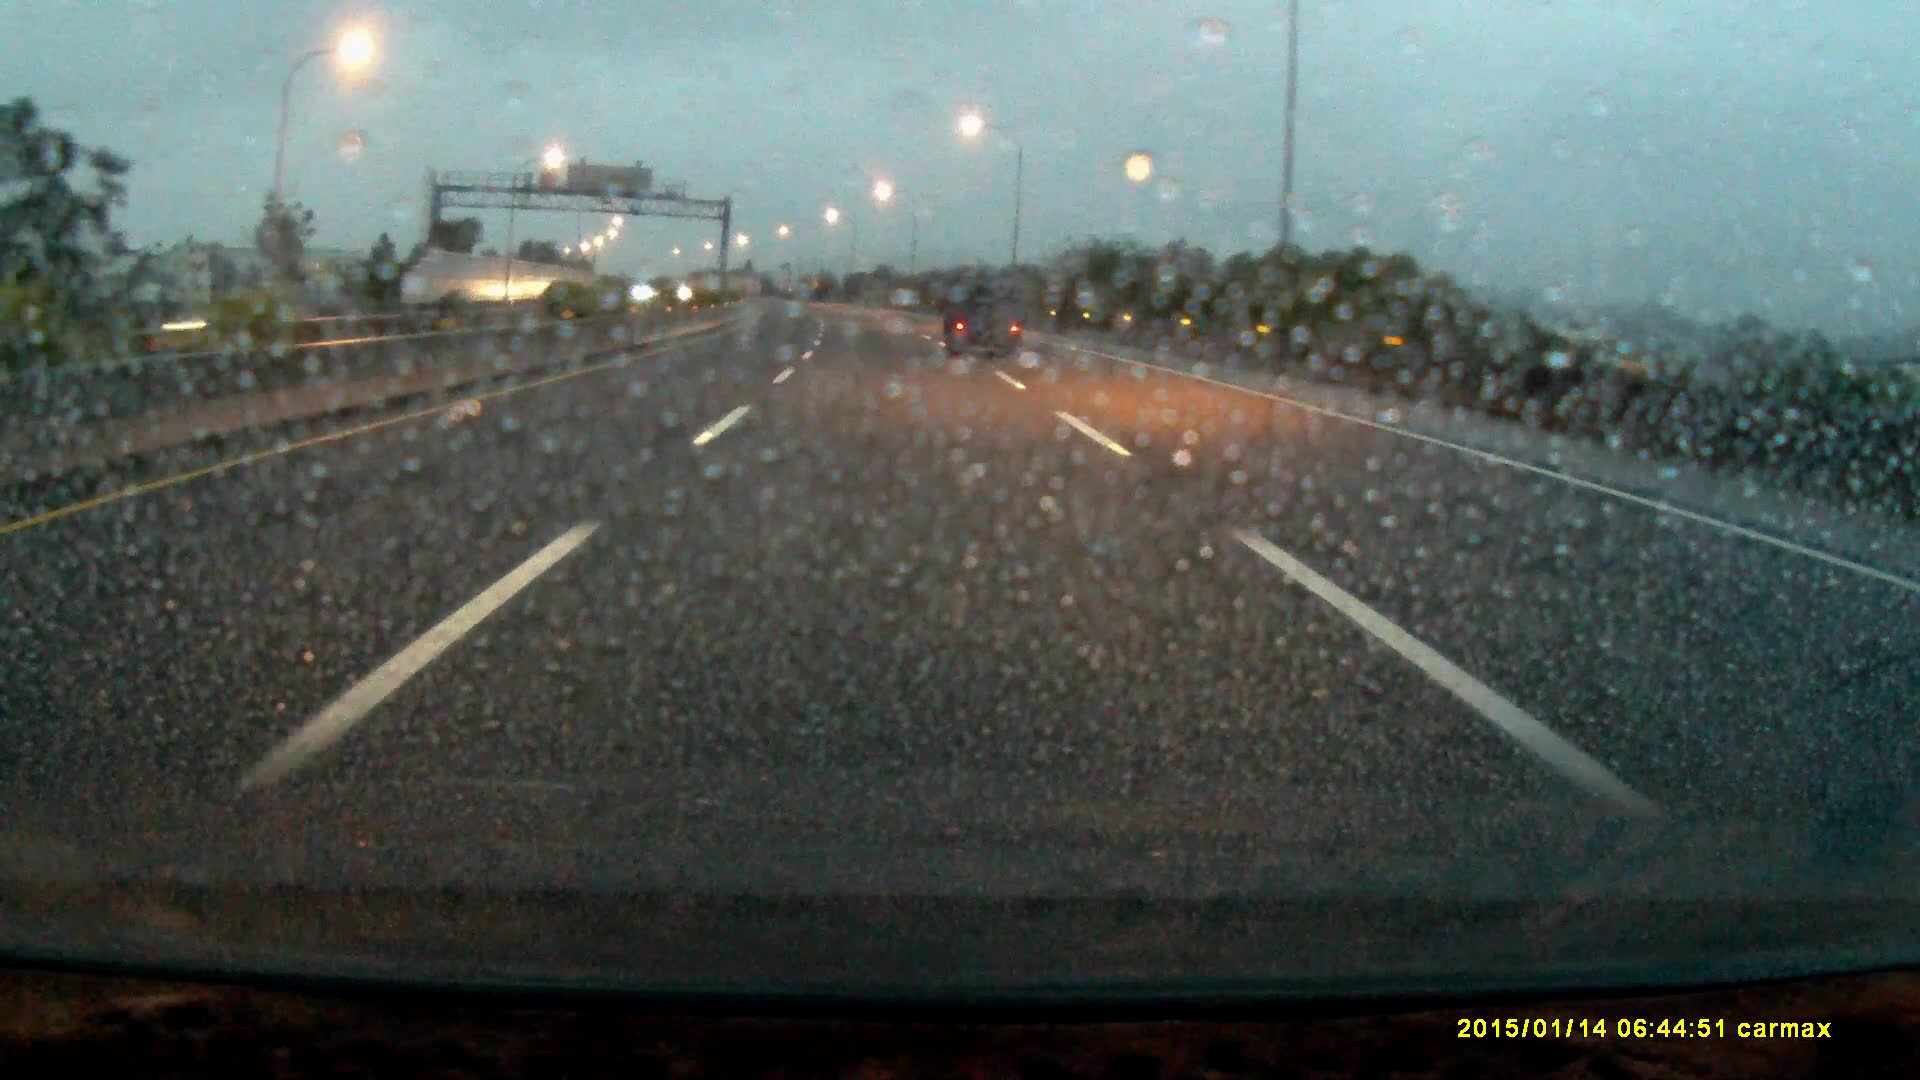vehicle: (942, 272, 1026, 359)
